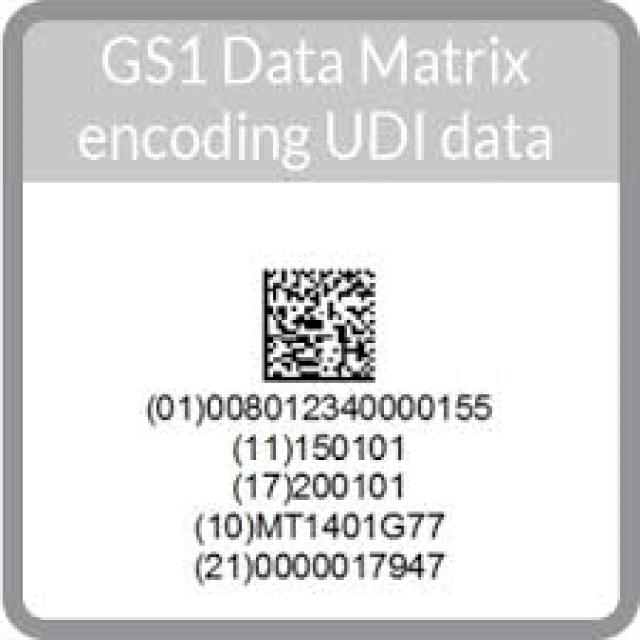datamatrix: (253, 257, 390, 389)
